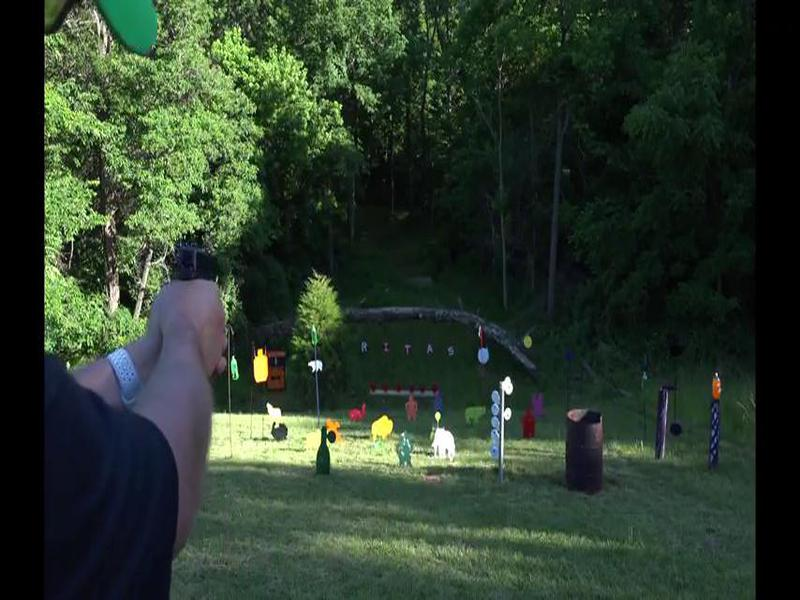Pistola: (177, 237, 233, 294)
